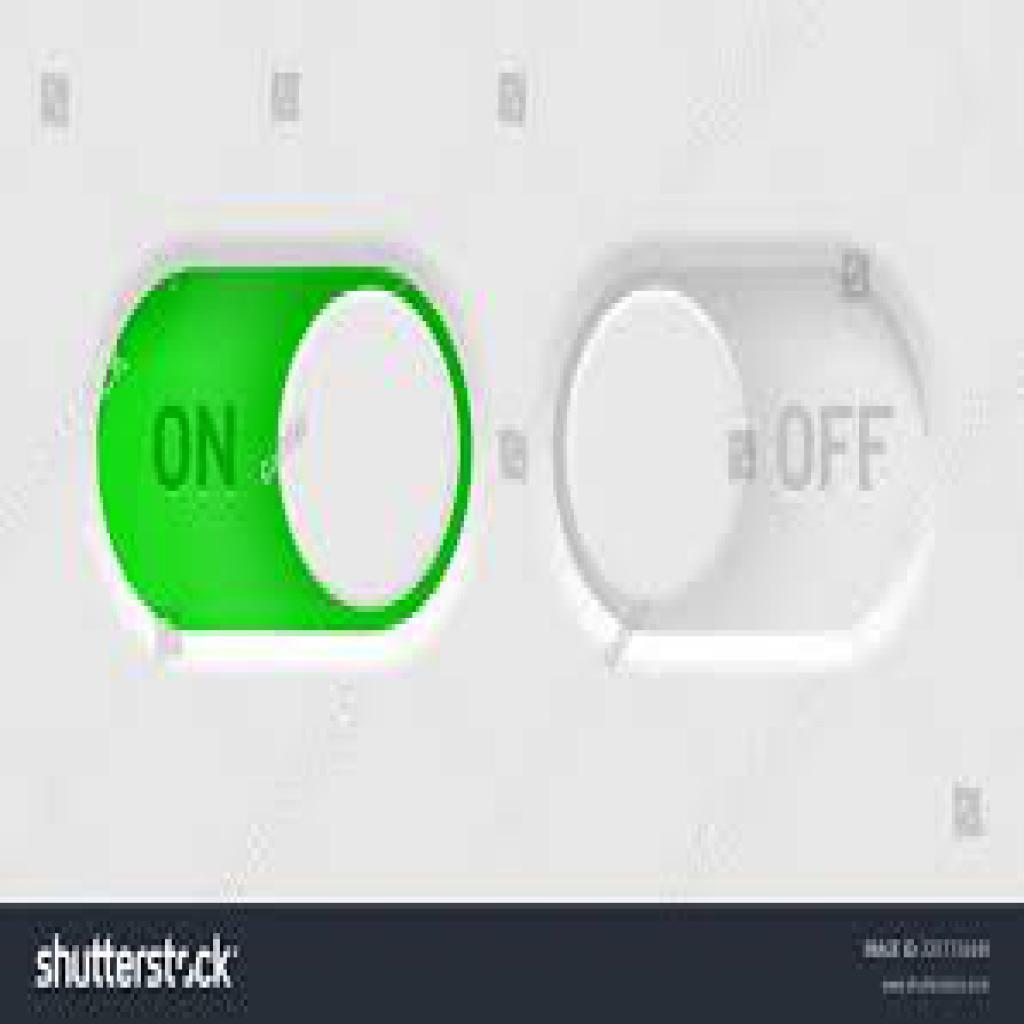switch: (544, 249, 955, 643), (102, 266, 476, 635)
